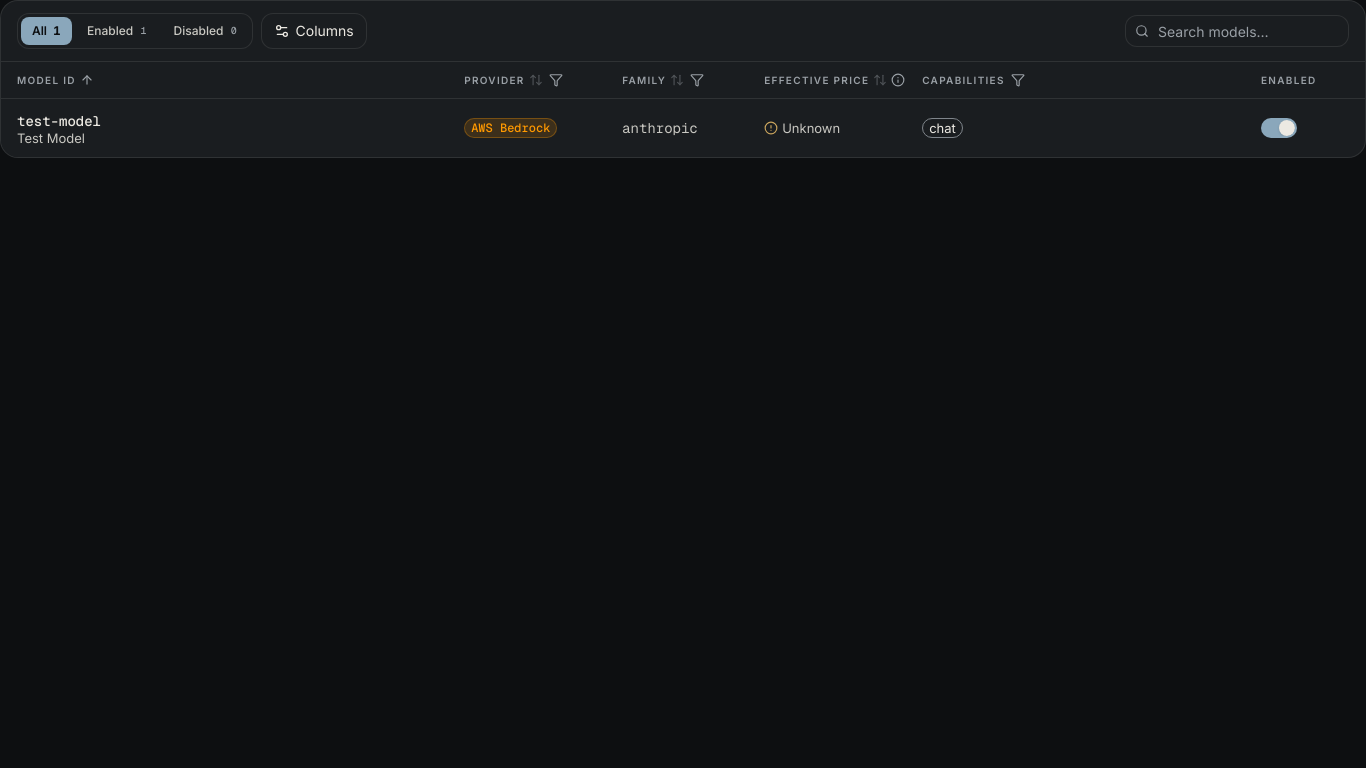
Test: Enabled toggles › names the table and detail toggles after the model
Expected: the switch named "Enable test-model" is shown, [1261,118,1297,138]
Click the text "test-model" at (59, 122), box [17,111,101,132]
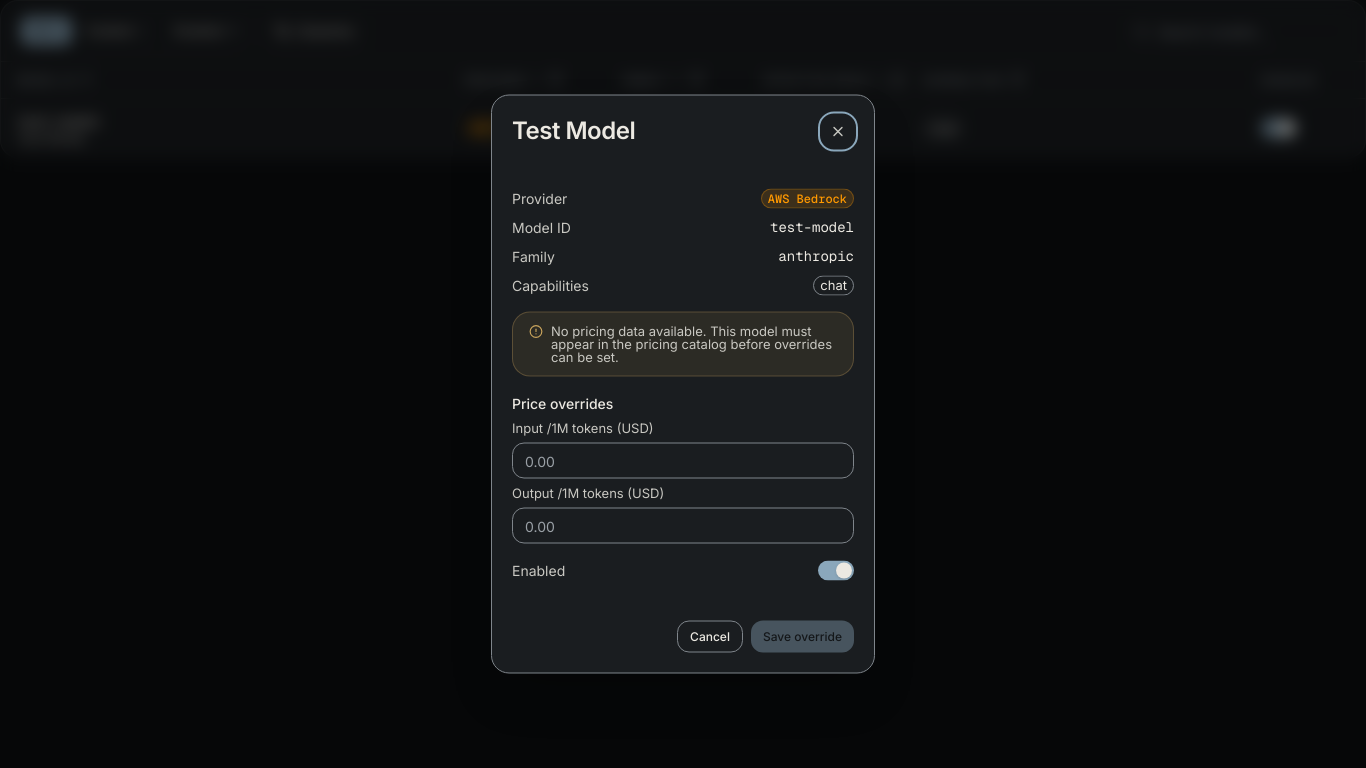
Result: the number of switches named "Enable test-model" is 2 at [1261,118,1297,138]; [818,560,854,580]
